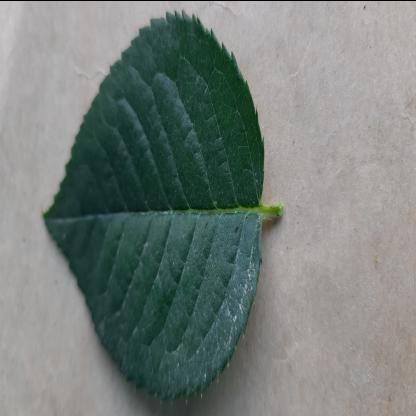normal: (44, 6, 265, 414)
